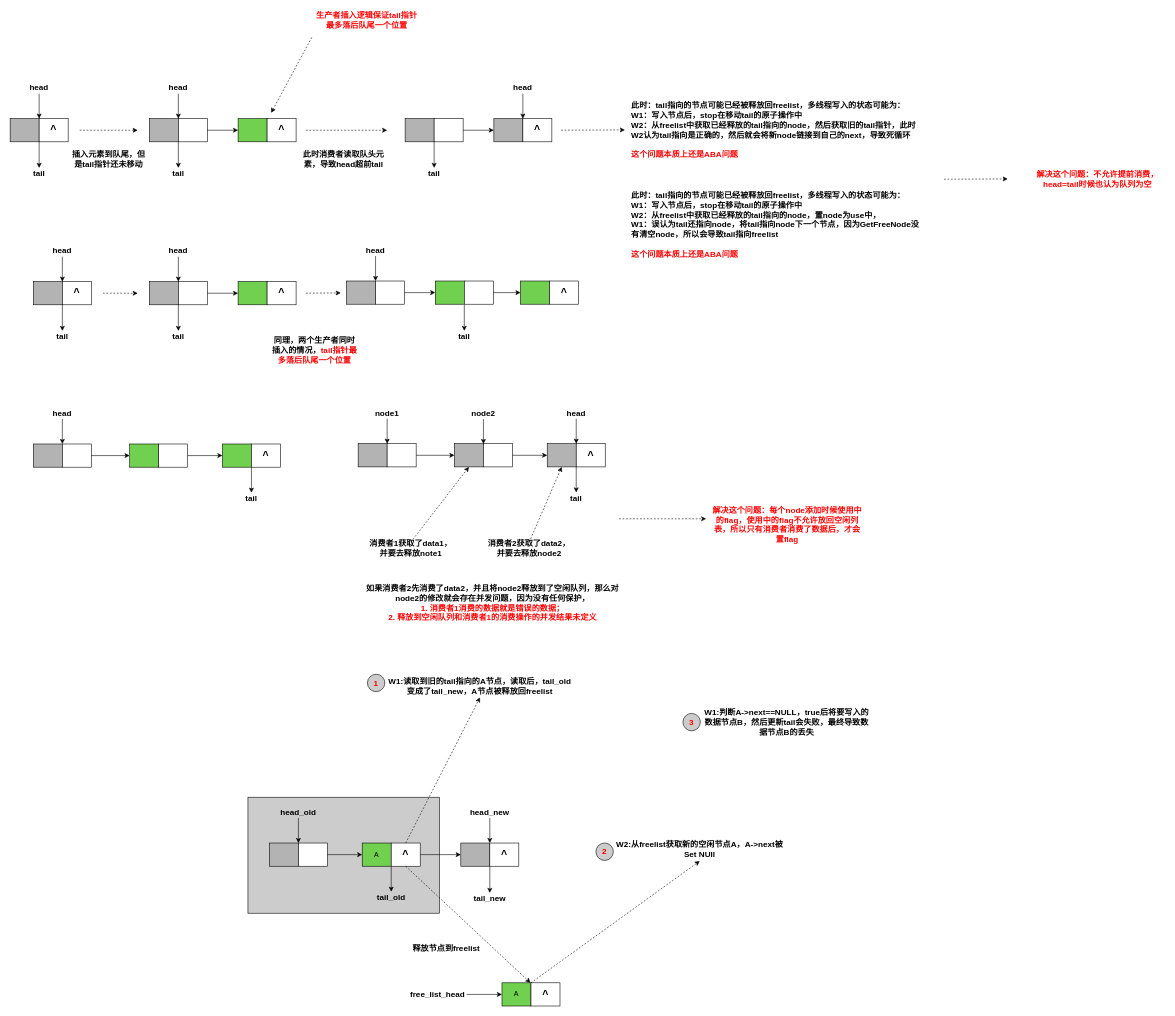
The diagram is 1175 pixels wide and 1016 high, and some of its shapes have lost their labels. The box of each missing label's shape, as (x1, y1, x2, y2) in pixels:
data1: (454, 443, 483, 467)
data2: (547, 443, 576, 467)
